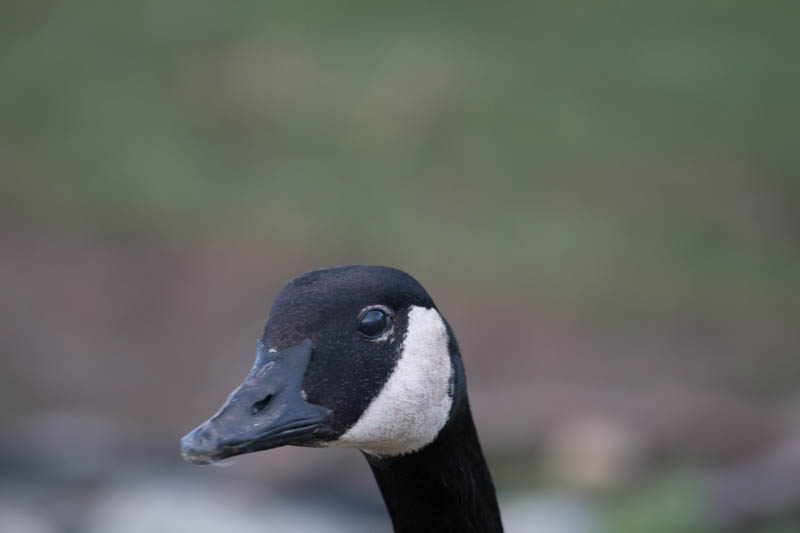goose-head: (179, 264, 468, 465)
